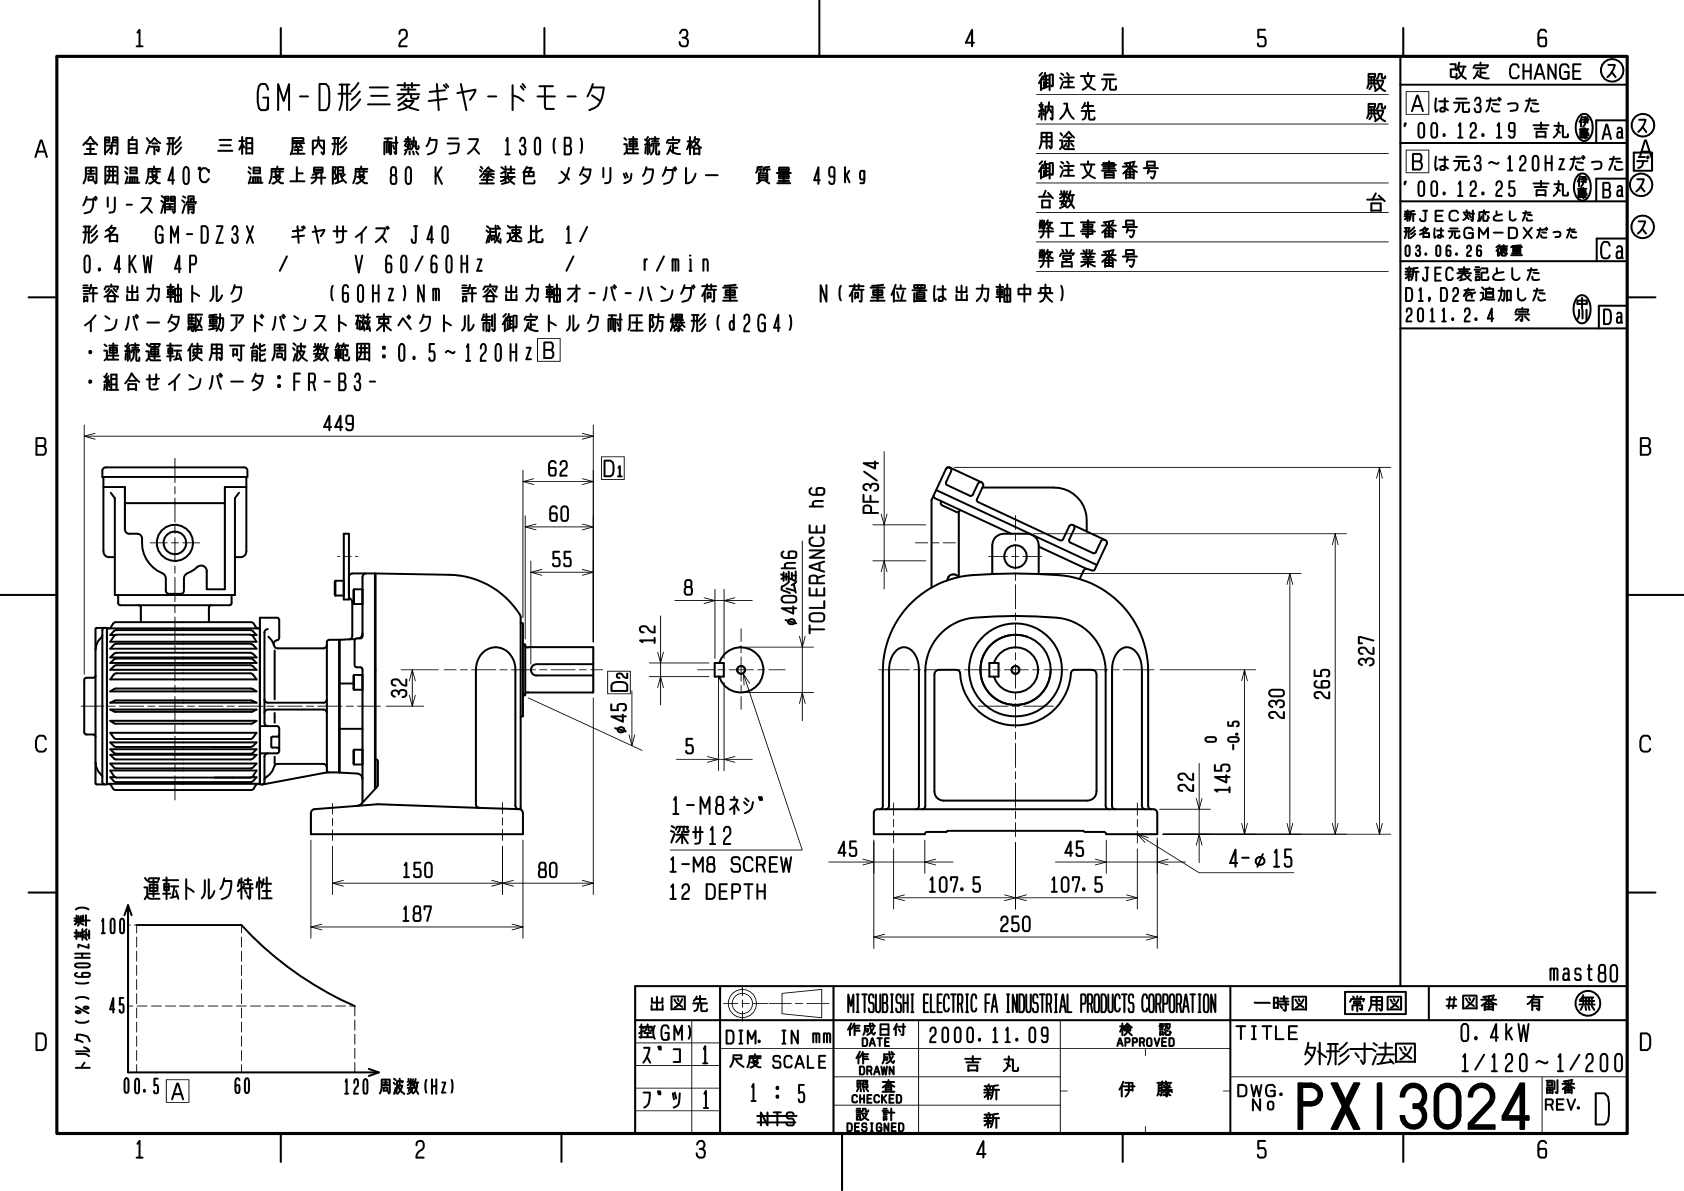GM_D_制御屋内_三相_脚: (64, 396, 1397, 967)
